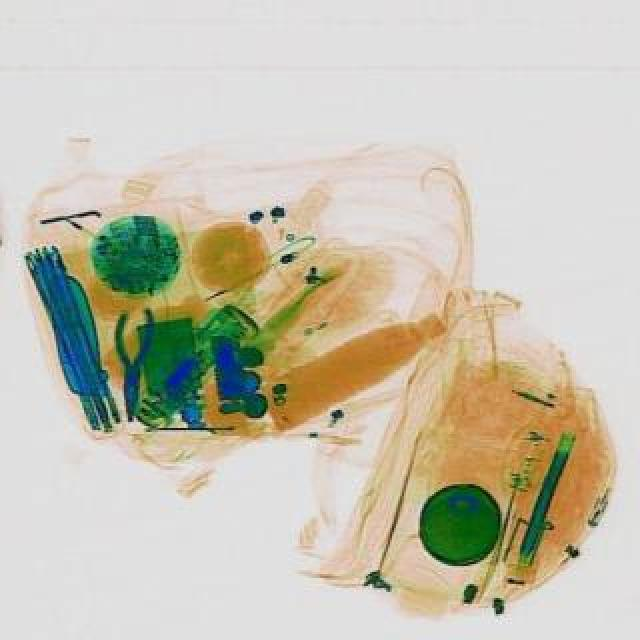wrench: (112, 308, 154, 422)
